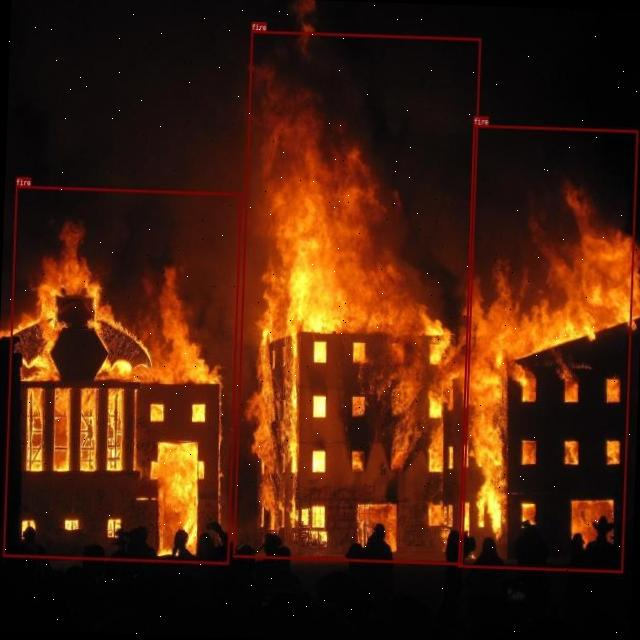fire: (233, 31, 480, 566), (2, 185, 242, 564), (458, 124, 638, 572)
